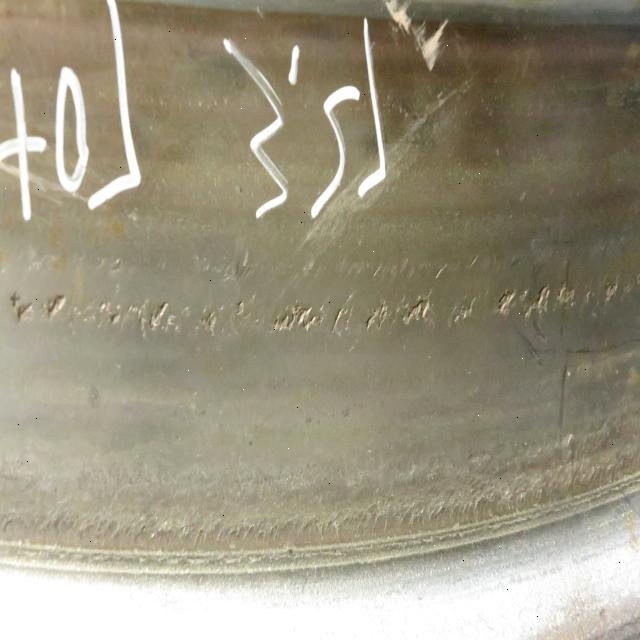boli: (2, 276, 242, 341), (271, 275, 443, 349)
